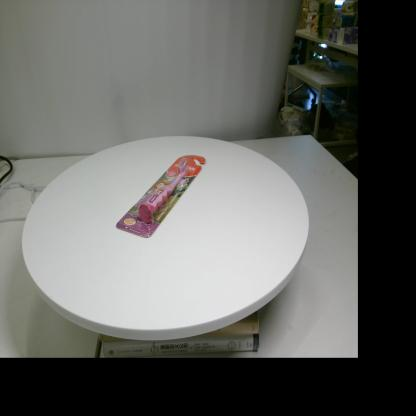Personal Hygiene: (116, 155, 206, 238)
